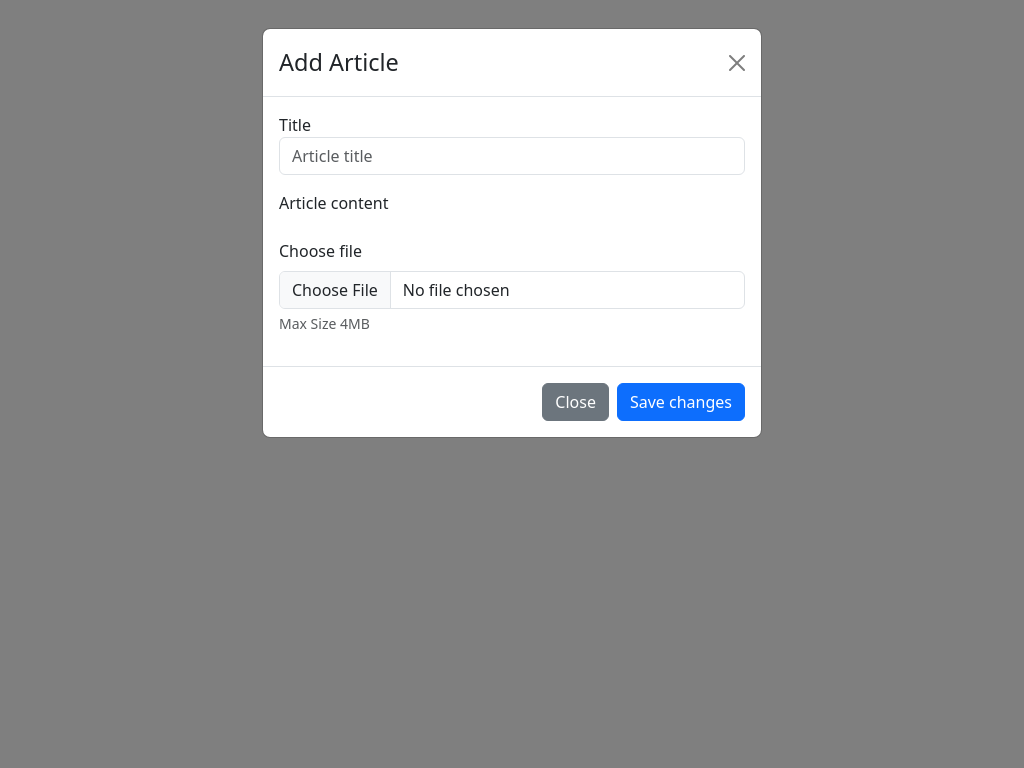
Scenario: ArticleFormModal Component › displays error messages when submitting with empty fields
Click the button "Save changes". click: {"x": 681, "y": 402}
box: [617,383,745,421]
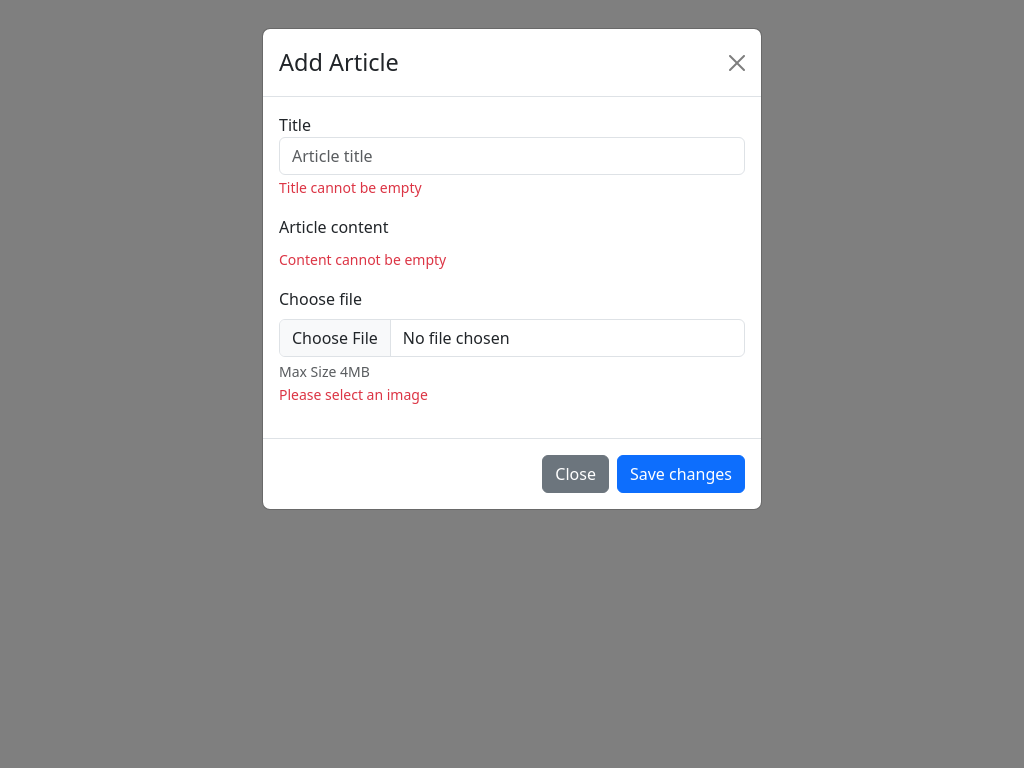
Check: the text "Title cannot be empty" is shown, box [279,178,422,197]
Check: the text "Please select an image" is shown, box [279,385,428,404]
